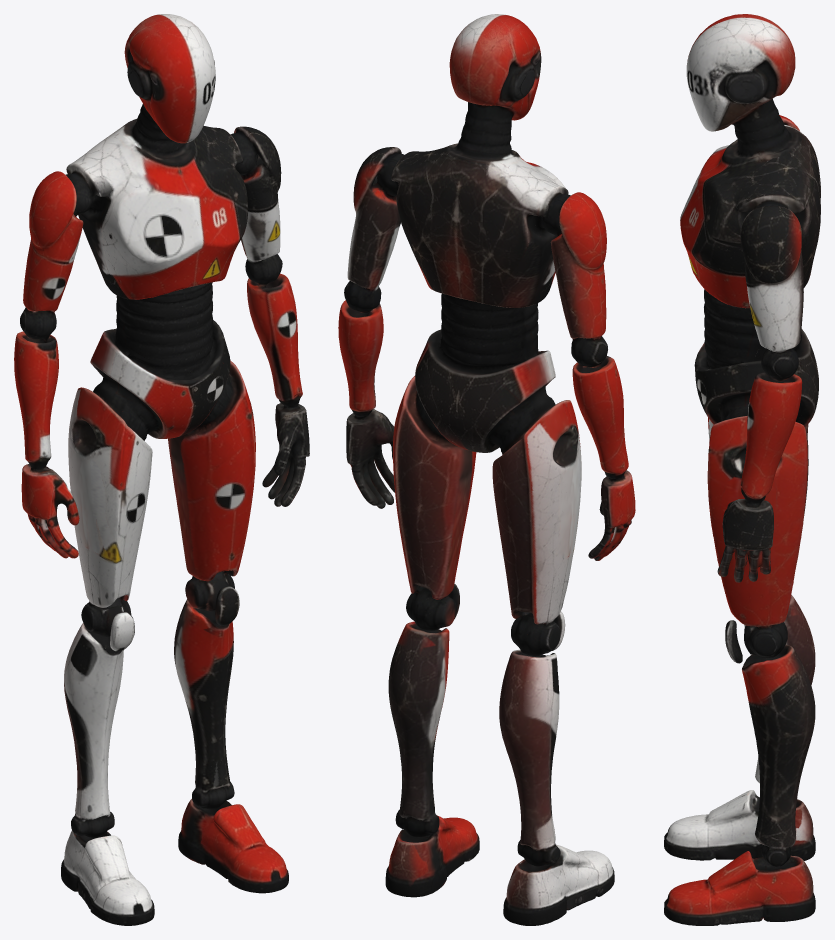
Rendered from Test_Unit_03.glb.
The picture shows the model from 3 angles, left to right: view 1: azimuth 30°, elevation 25°; view 2: azimuth 150°, elevation 25°; view 3: azimuth 270°, elevation 25°; orthographic projection.
Size of the model in its own units: 0.6436 by 1.9 by 0.3126.
Materials: 1 (1 with a texture image).
